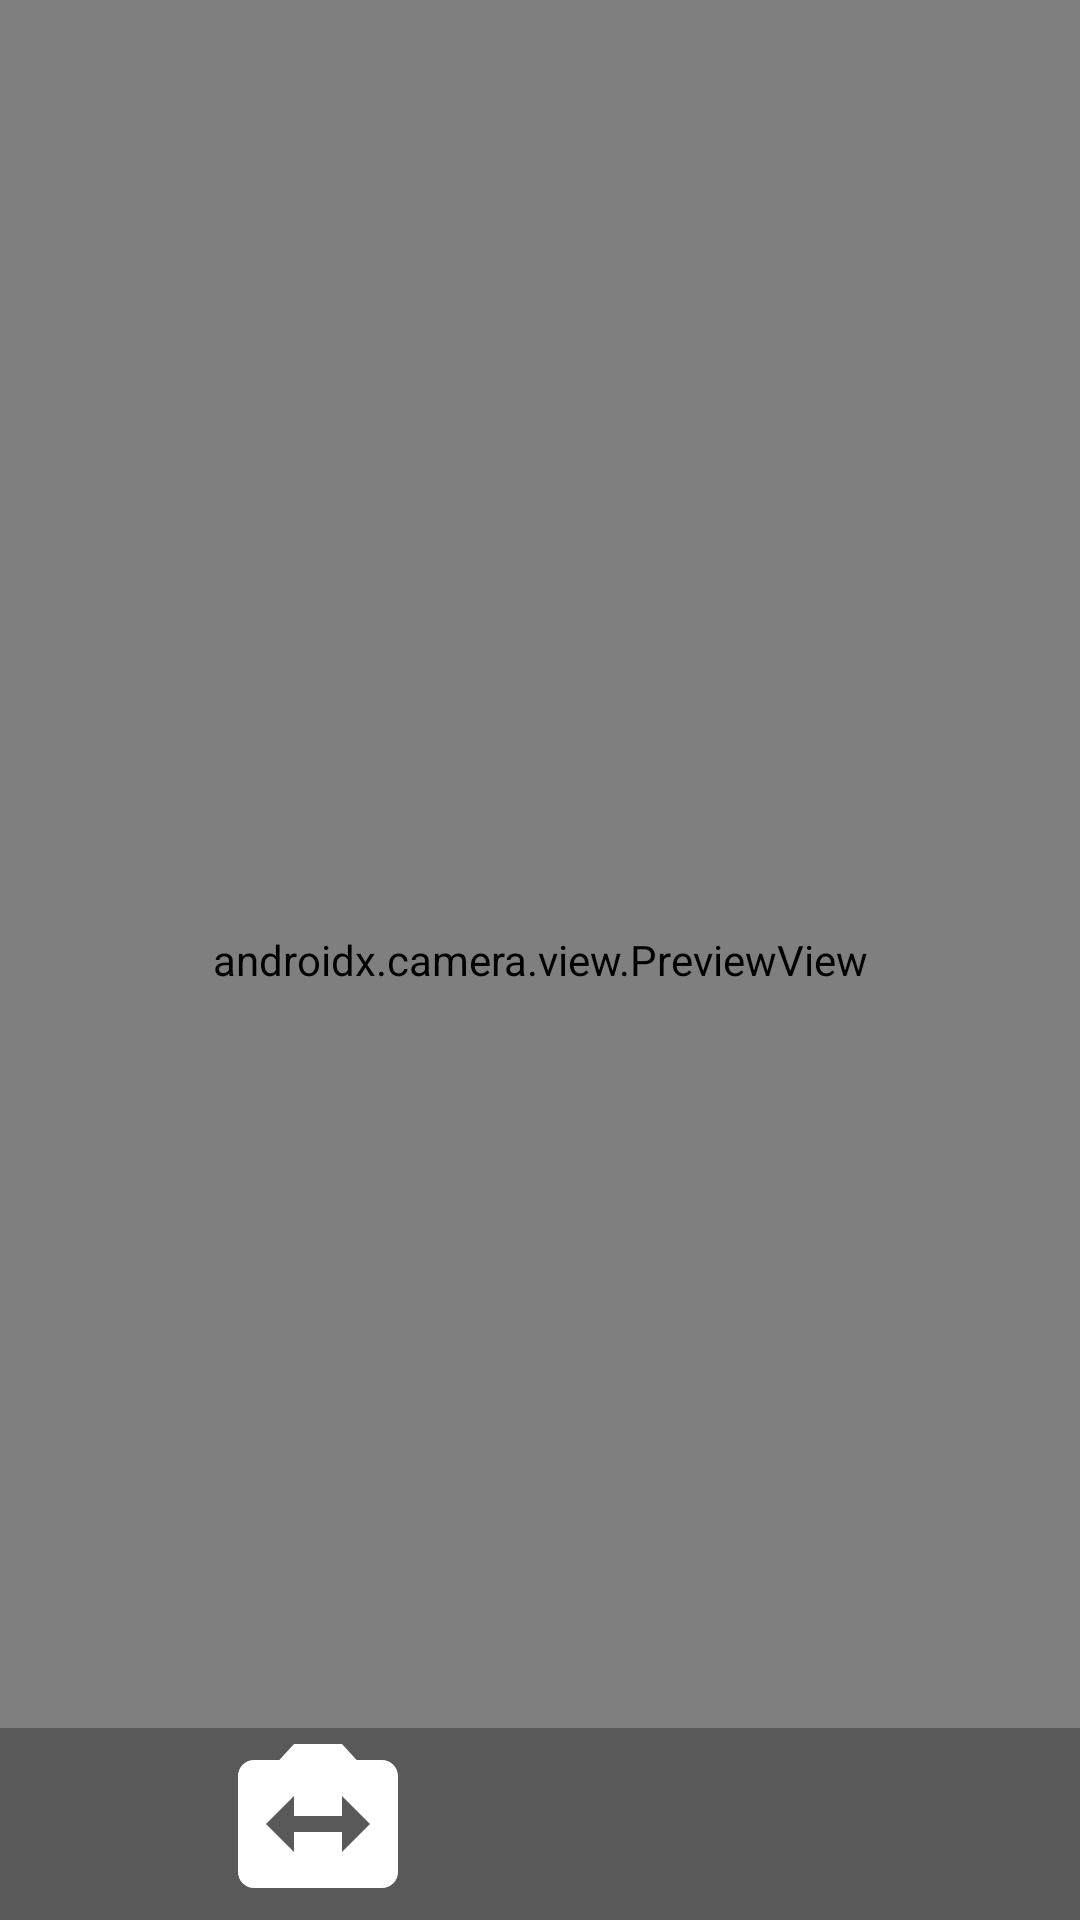

Locate icon controls on the screen. Image size 1080 x 1920, boxes as (x1, y1, x2, y2).
Change camera: (238, 1744, 398, 1888)
